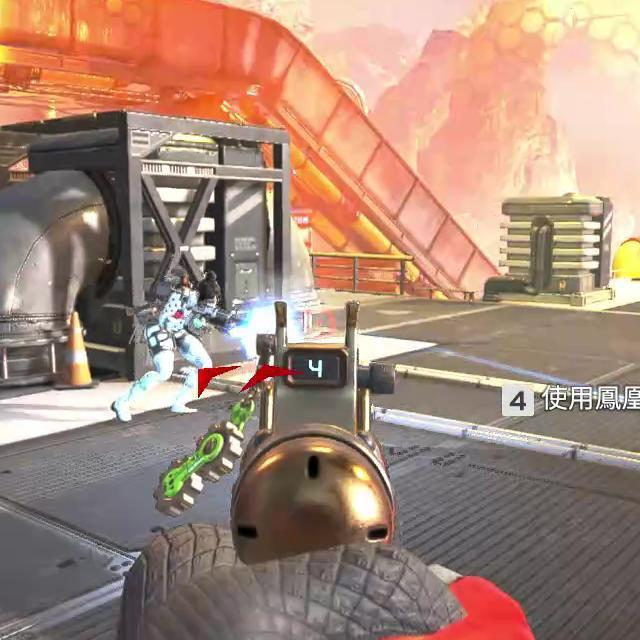avatar: (111, 271, 225, 424)
